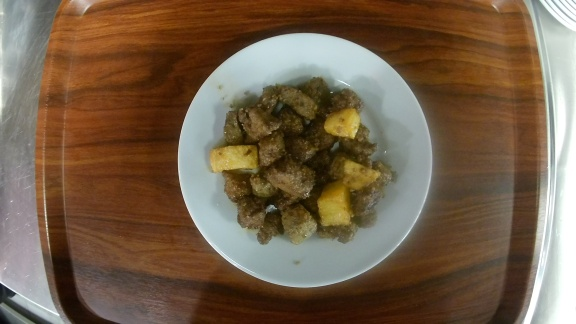arnavutcigeri: (176, 33, 434, 289)
